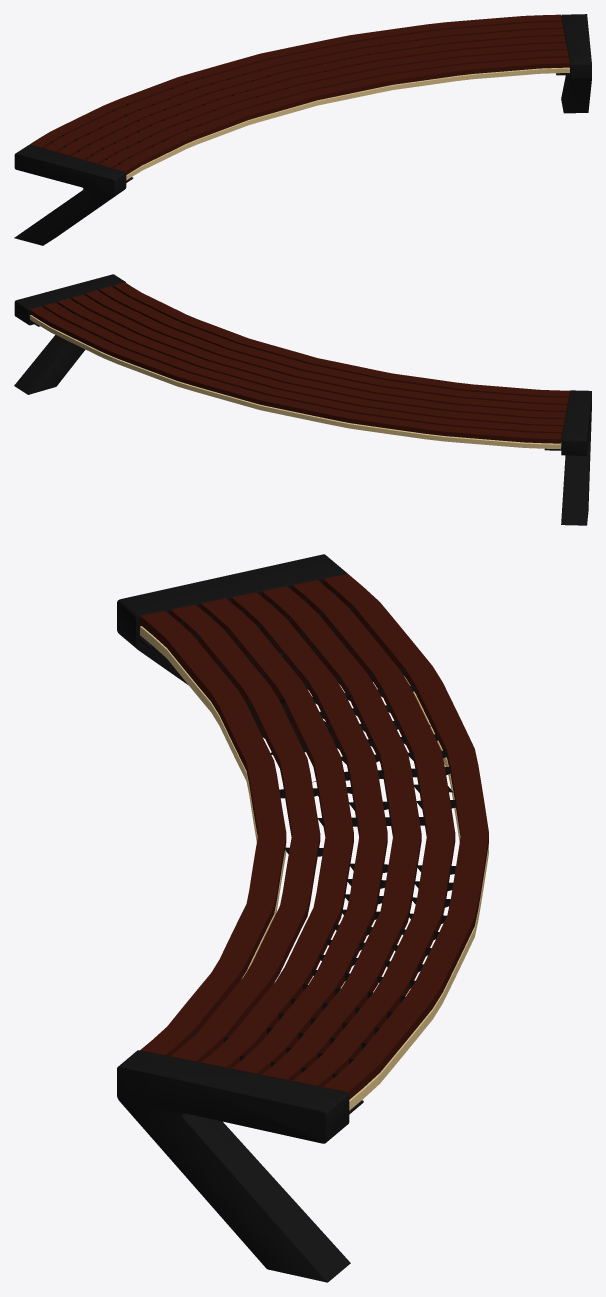
The model's file is bench.glb.
3 renders of one model, top to bottom at view 1: azimuth 30°, elevation 25°; view 2: azimuth 150°, elevation 25°; view 3: azimuth 270°, elevation 25°, orthographic. The views are drawn at different scales.
Visible parts, largest first — view 1: Object_4.001; view 2: Object_4.001; view 3: Object_4.001.
Boxes of the visible parts, x1,y1,x2,y2 form: Object_4.001: (14,14,591,245); Object_4.001: (14,274,591,525); Object_4.001: (117,554,488,1282).
Size of the model in its own units: 4.45 by 0.6313 by 1.25.
